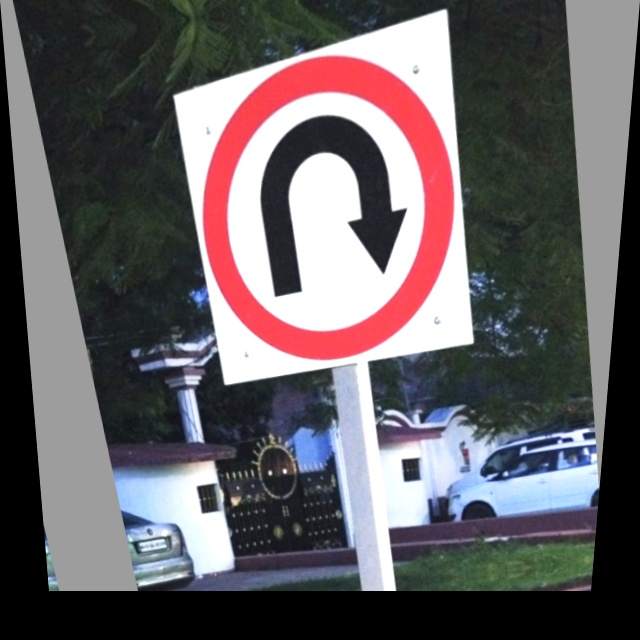U_Turn_Ahead: (165, 44, 485, 372)
